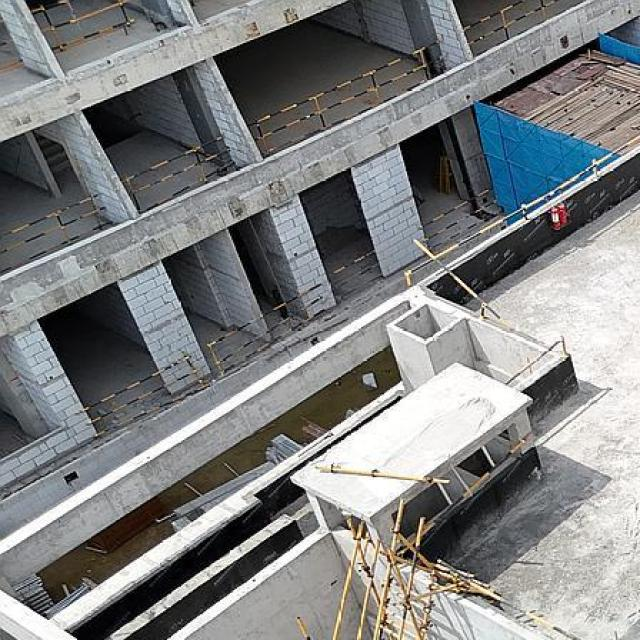edge_guardrail: (403, 134, 640, 289), (247, 40, 440, 159), (408, 430, 533, 544), (78, 350, 212, 440), (206, 282, 326, 377), (121, 136, 236, 216), (0, 194, 113, 274), (410, 236, 506, 326), (460, 577, 583, 640), (463, 0, 560, 57), (31, 0, 135, 50), (418, 188, 492, 252), (328, 248, 382, 303), (506, 337, 566, 386)
